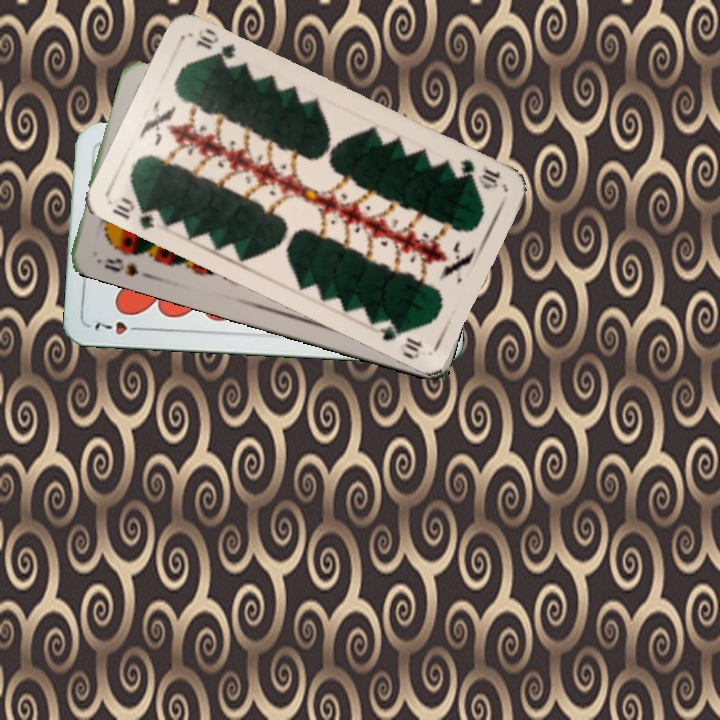G10: (446, 155, 503, 192), (107, 193, 157, 232)
H7: (91, 318, 147, 338)
S8: (100, 254, 141, 279)
